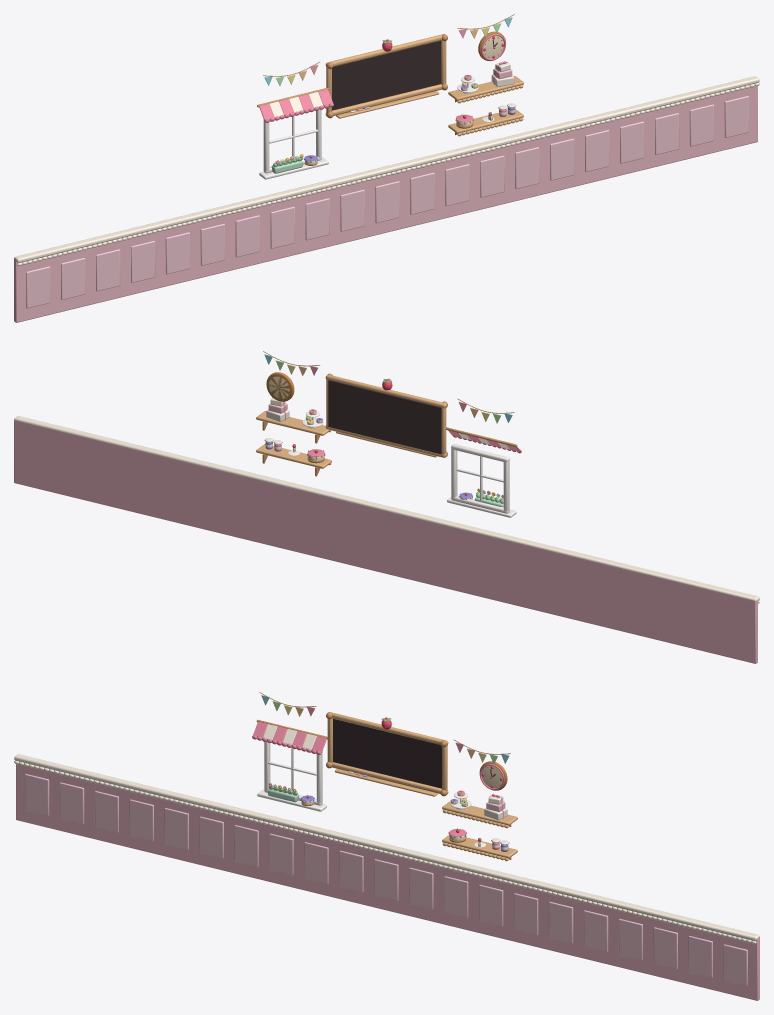
File: shop.glb
3 renders of one model, top to bottom at view 1: azimuth 30°, elevation 25°; view 2: azimuth 150°, elevation 25°; view 3: azimuth 330°, elevation 25°, orthographic.
Visible parts, largest first — view 1: cf6c3cf, cf9d0da, cfff4e6, board_back, ce8b886, cf48fa8, cfffaf6, cfff0cf; view 2: cf6c3cf, board_back, cfff4e6, ce8b886, cfffaf6, cc98b4b, cf48fa8; view 3: cf6c3cf, cf9d0da, cfff4e6, board_back, ce8b886, cf48fa8, cfffaf6, cfff0cf.
Part boxes in pixels (x1,y1,x2,y2): cf6c3cf: (14, 68, 757, 322); cf9d0da: (26, 96, 748, 308); cfff4e6: (14, 76, 759, 266); board_back: (332, 41, 440, 110); ce8b886: (325, 34, 523, 136); cf48fa8: (259, 34, 516, 124); cfffaf6: (259, 109, 328, 179); cfff0cf: (304, 35, 503, 164); cf6c3cf: (14, 403, 757, 663); board_back: (328, 380, 441, 454); cfff4e6: (14, 416, 759, 603); ce8b886: (256, 374, 446, 468); cfffaf6: (447, 444, 516, 517); cc98b4b: (266, 372, 324, 463); cf48fa8: (264, 377, 521, 458); cf6c3cf: (16, 761, 759, 1000); cf9d0da: (25, 774, 747, 986); cfff4e6: (14, 724, 759, 944); board_back: (333, 719, 441, 788); ce8b886: (327, 712, 517, 861); cf48fa8: (252, 721, 509, 849); cfffaf6: (257, 741, 326, 811); cfff0cf: (301, 765, 502, 845).
Bounding box in the file's own units: 34.01 × 8.42 × 0.878.
